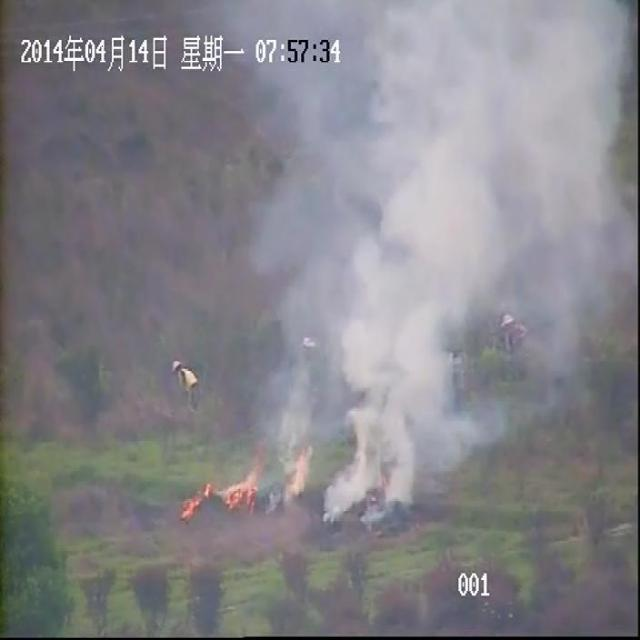fire: (281, 447, 312, 496), (221, 474, 255, 514), (179, 480, 212, 520)
smoke: (249, 2, 633, 526)
